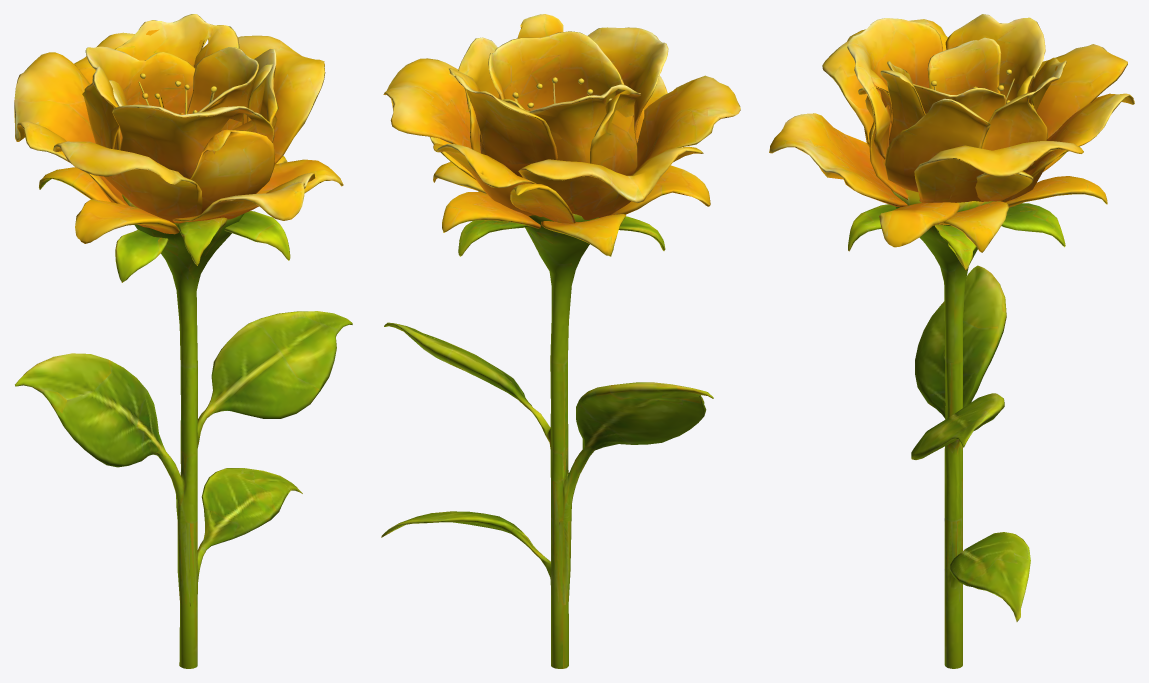
Rendered from rose_yellow.glb.
3 views of the same model, side by side, from view 1: azimuth 30°, elevation 25°; view 2: azimuth 150°, elevation 25°; view 3: azimuth 270°, elevation 25° (orthographic).
Parts seen in each view (by area): view 1: geometry_0; view 2: geometry_0; view 3: geometry_0.
Boxes of the visible parts, <box> form: geometry_0: <box>14,14,352,668</box>; geometry_0: <box>381,14,740,668</box>; geometry_0: <box>769,14,1134,668</box>.
Bounding box in the file's own units: 0.5425 × 0.9502 × 0.5103.
Materials: 1 (1 with a texture image).
